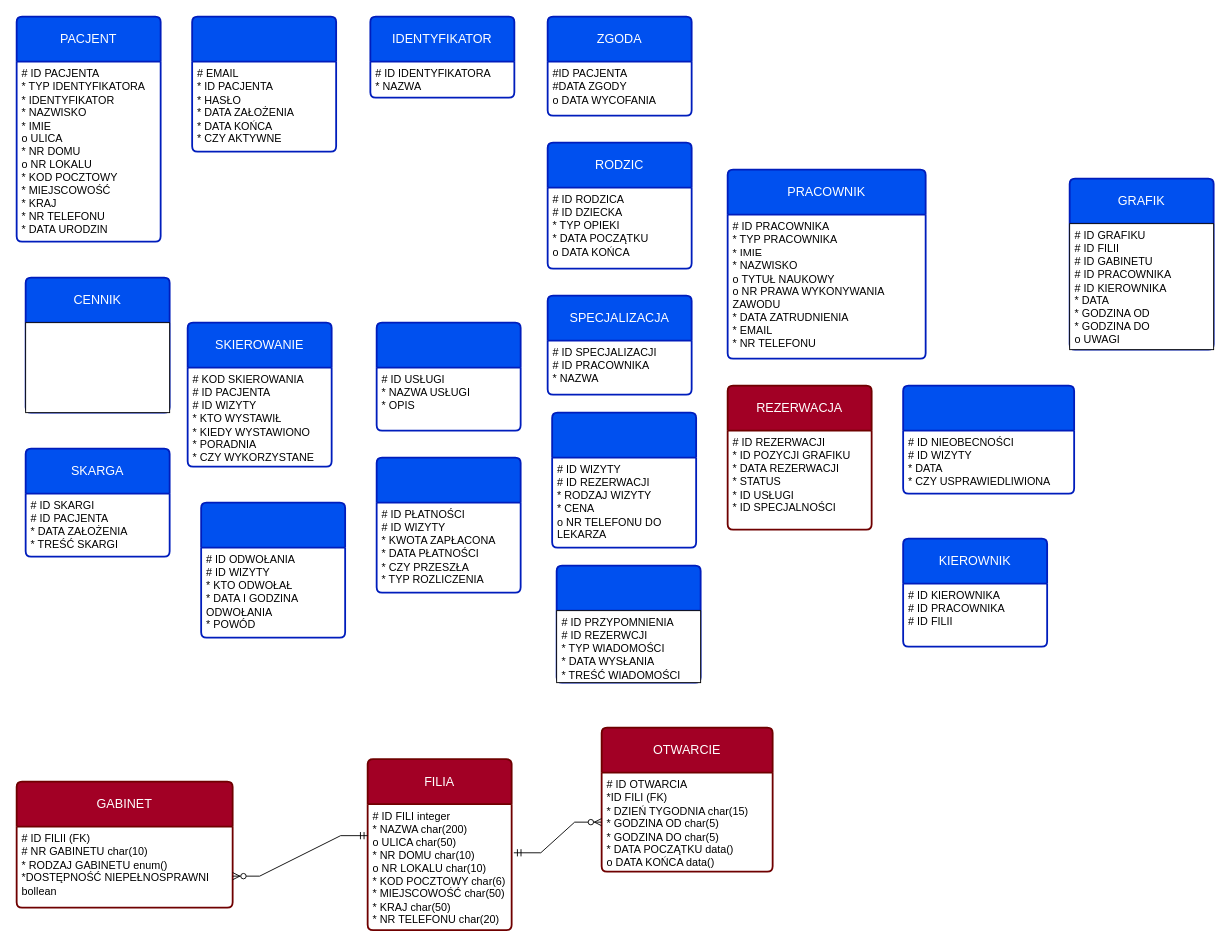
The diagram is 1229 pixels wide and 946 high, and some of its shapes have lost their labels. The box of each missing label's shape, as (x1, y1, x2, y2) in pixels:
# ID CENNIKA # ID USŁUGI * RODZAJ WIZYTY * CENA * DATA OD o DATA DO: (25, 322, 170, 413)
KONTO: (191, 15, 337, 152)
NIEOBECNOŚĆ: (902, 384, 1075, 494)
ODWOŁANIE: (200, 501, 346, 638)
PRZYPOMNIENIE: (555, 564, 701, 683)
PŁATNOŚĆ: (375, 456, 521, 593)
USŁUGA: (375, 321, 521, 431)
WIZYTA: (551, 411, 697, 548)
